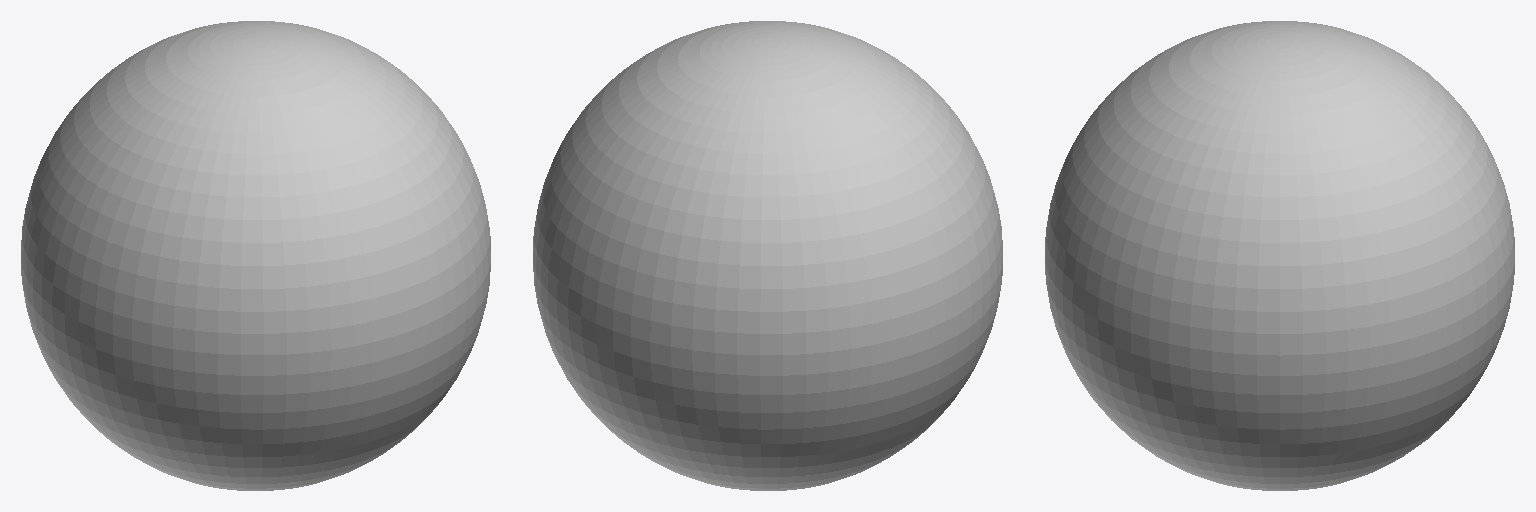
Rendered from Jupiter.obj.
3 renders of one model, left to right at view 1: azimuth 30°, elevation 25°; view 2: azimuth 150°, elevation 25°; view 3: azimuth 270°, elevation 25°, orthographic.
Parts seen in each view (by area): view 1: Jupiter; view 2: Jupiter; view 3: Jupiter.
Part boxes in pixels (left/top/right/bottom): Jupiter: left=21, top=21, right=490, bottom=490; Jupiter: left=533, top=21, right=1002, bottom=490; Jupiter: left=1045, top=21, right=1514, bottom=490.
Size of the model in its own units: 135 by 135 by 135.